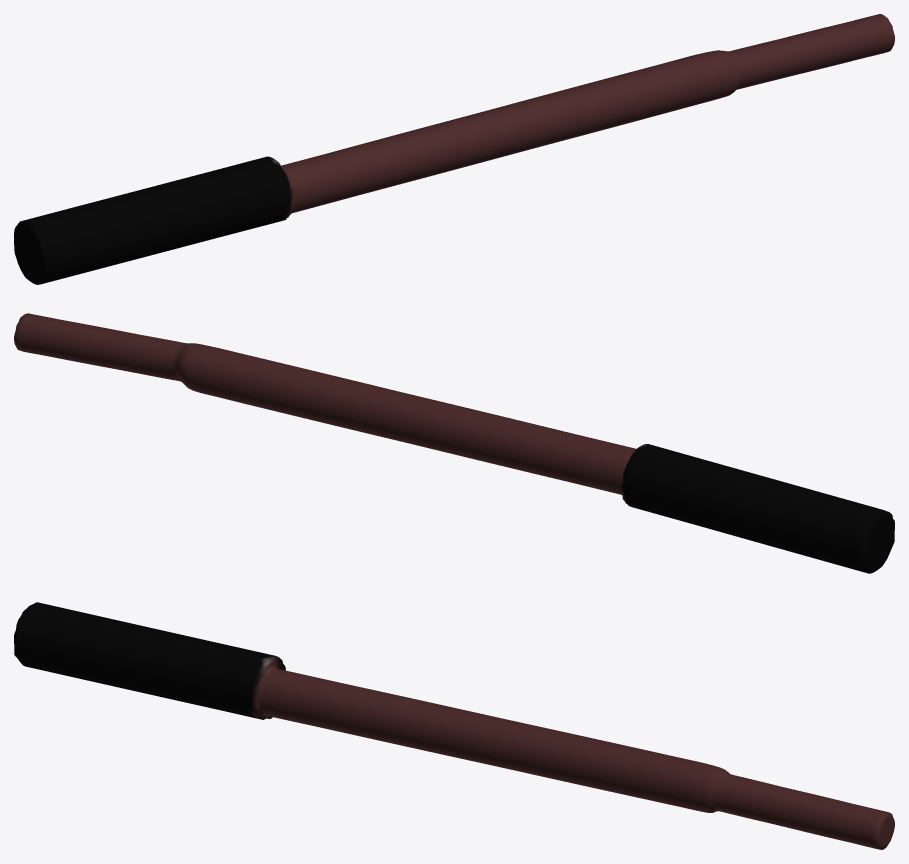
3 views of the same model, one above another, from view 1: azimuth 30°, elevation 25°; view 2: azimuth 150°, elevation 25°; view 3: azimuth 330°, elevation 25° (orthographic).
Parts seen in each view (by area): view 1: ReferenceModel_Selection_1; view 2: ReferenceModel_Selection_1; view 3: ReferenceModel_Selection_1.
Boxes of the visible parts, x1,y1,x2,y2 form: ReferenceModel_Selection_1: (14,14,894,284); ReferenceModel_Selection_1: (14,313,894,573); ReferenceModel_Selection_1: (14,602,894,849).
Bounding box in the file's own units: 85.87 × 6.32 × 6.06.
